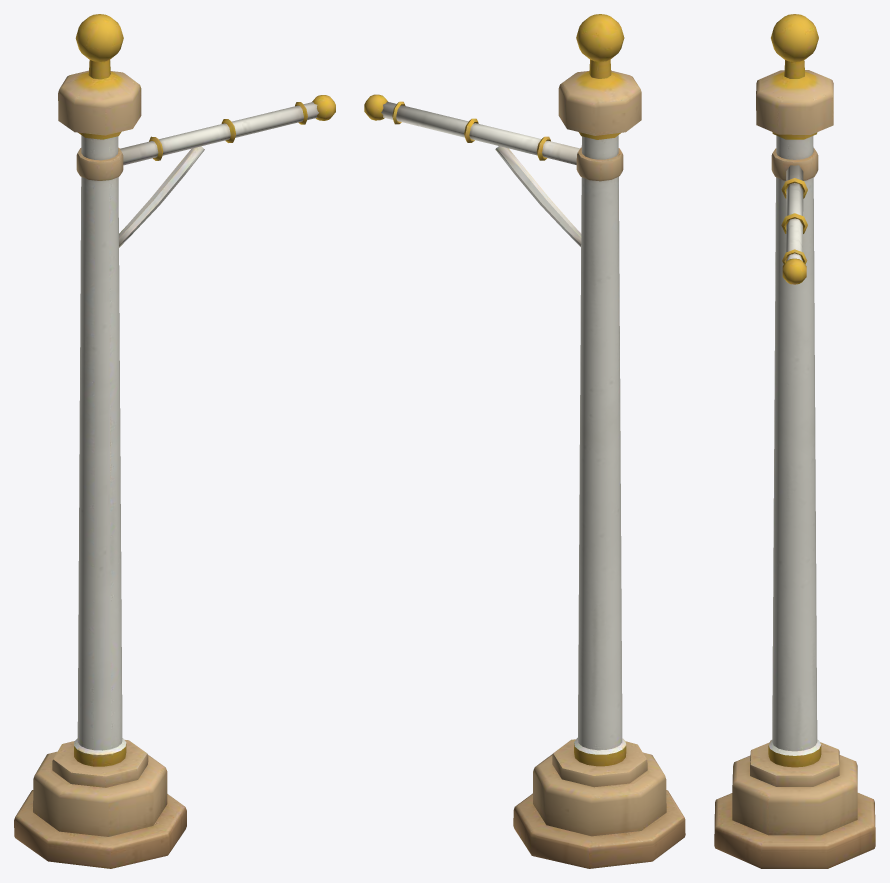
File: banner-pole.glb
The picture shows the model from 3 angles, left to right: view 1: azimuth 30°, elevation 25°; view 2: azimuth 150°, elevation 25°; view 3: azimuth 270°, elevation 25°; orthographic projection.
Visible parts, largest first — view 1: banner-pole; view 2: banner-pole; view 3: banner-pole.
Part boxes in pixels (x1,y1,x2,y2): banner-pole: (14, 14, 335, 868); banner-pole: (364, 14, 685, 868); banner-pole: (714, 14, 875, 868).
Bounding box in the file's own units: 1.09 × 2.8 × 0.4994.
Materials: 4 (4 with a texture image).
